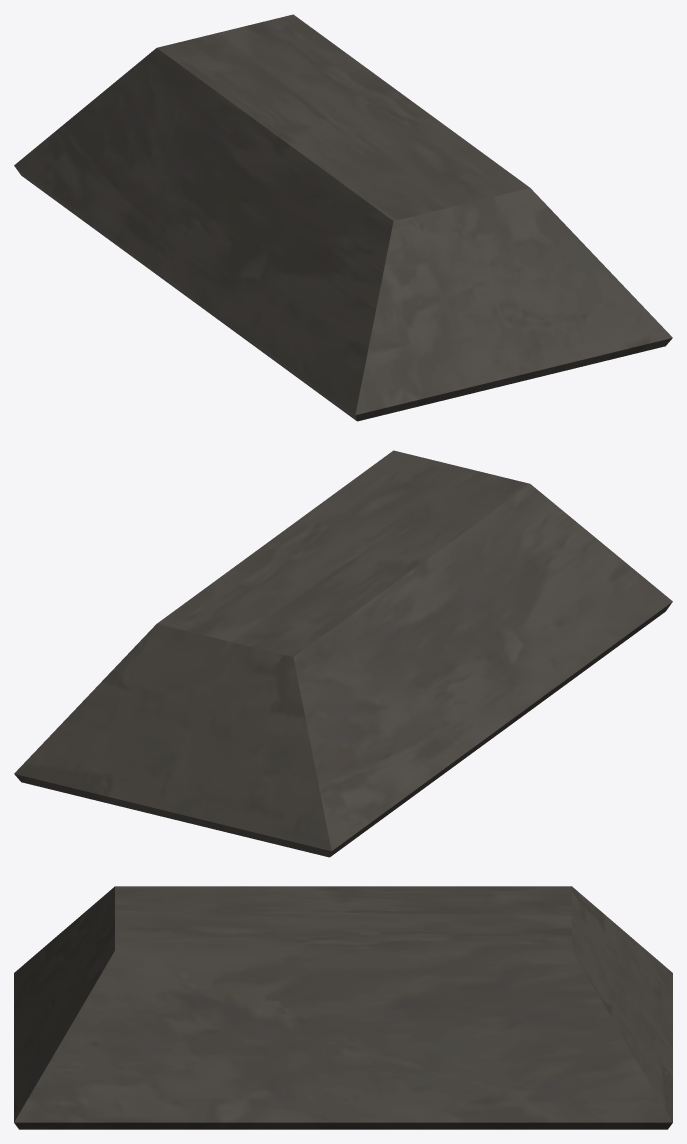
File: Part - Simlpe form 04-BXxdeq5v.glb
3 renders of one model, top to bottom at view 1: azimuth 30°, elevation 25°; view 2: azimuth 150°, elevation 25°; view 3: azimuth 270°, elevation 25°, orthographic. The views are drawn at different scales.
Parts seen in each view (by area): view 1: Simlpe_form_04; view 2: Simlpe_form_04; view 3: Simlpe_form_04.
Part boxes in pixels (x1,y1,x2,y2): Simlpe_form_04: [14, 14, 672, 421]; Simlpe_form_04: [14, 450, 672, 857]; Simlpe_form_04: [14, 886, 672, 1129].
Size of the model in its own units: 1.16 by 0.5 by 2.16.
Materials: 1 (1 with a texture image).
